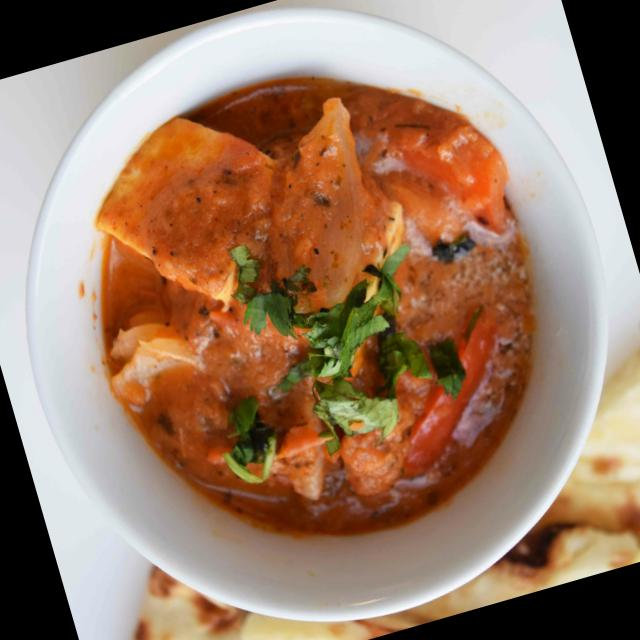ShahiPaneer: (50, 35, 589, 590)
